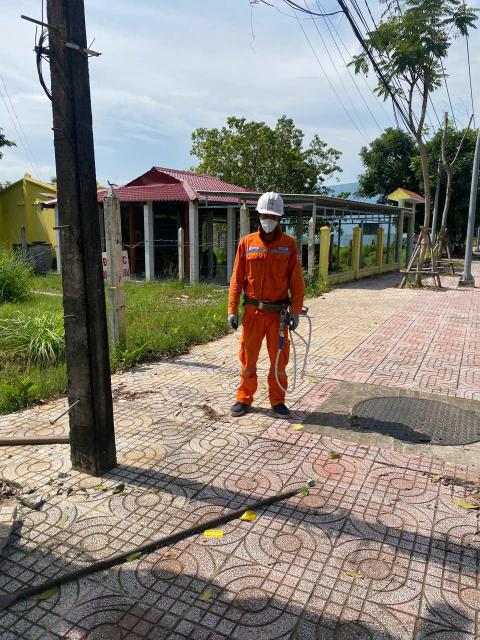gloves: (221, 311, 244, 331), (290, 313, 302, 331)
harness: (225, 284, 294, 316)
helmet: (253, 187, 291, 226)
shoes: (225, 394, 255, 420), (270, 394, 293, 421)
